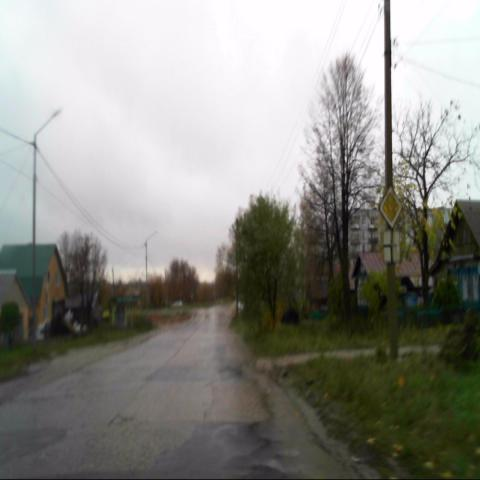2_1: (378, 186, 402, 228)
8_13: (383, 230, 400, 262)
